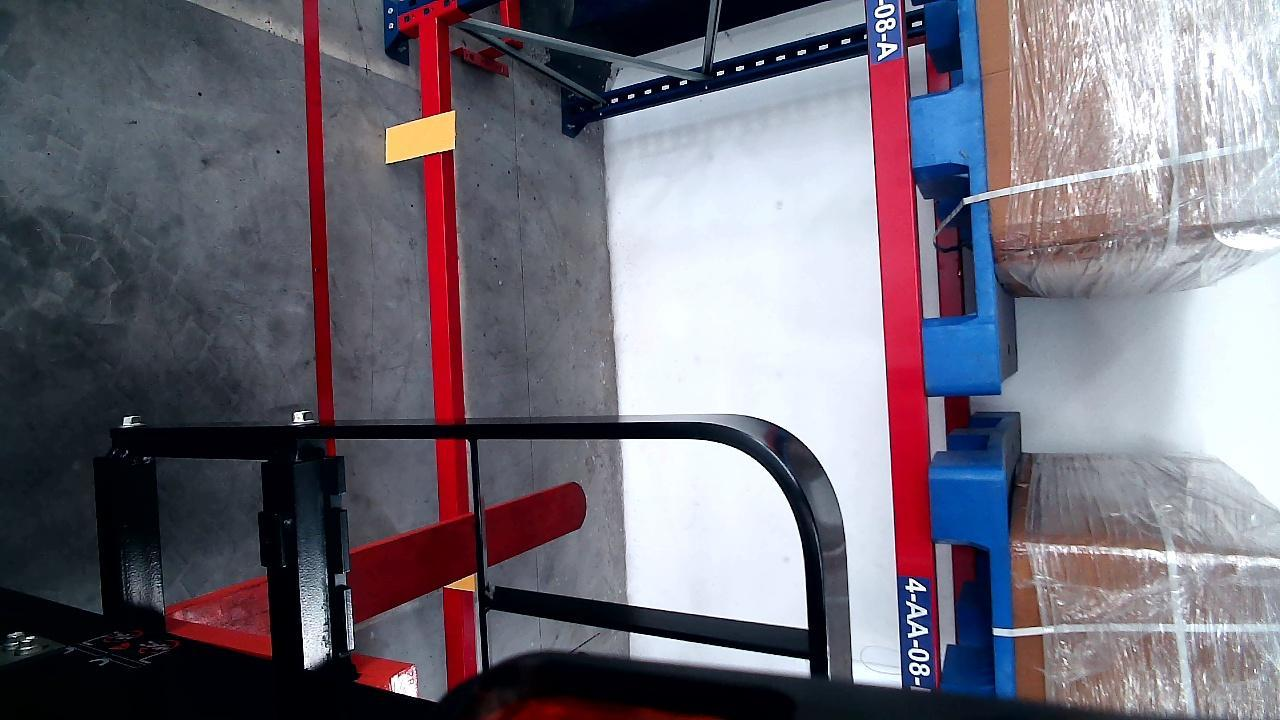red_line: (304, 0, 334, 427)
